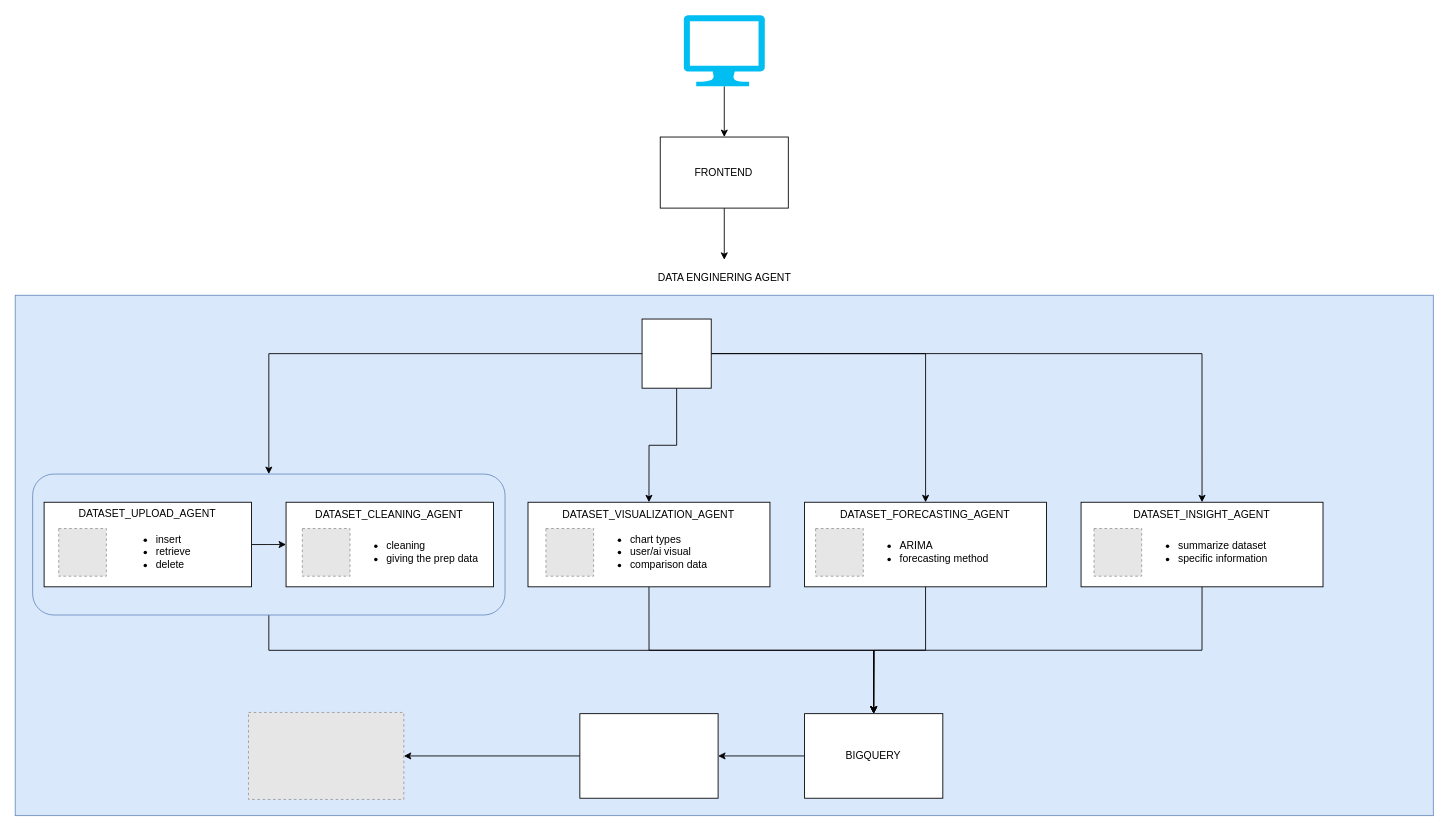
This 1449x831 diagram has some shape labels left out. Grey dashed boxes stand in for pictures. Here are the shapes that lost their labels. From the top down, the centre of each, then its label:
At (723,50): "USER".
At (676,353): "ROOT AGENT".
At (648,755): "CUA_AGENT".
